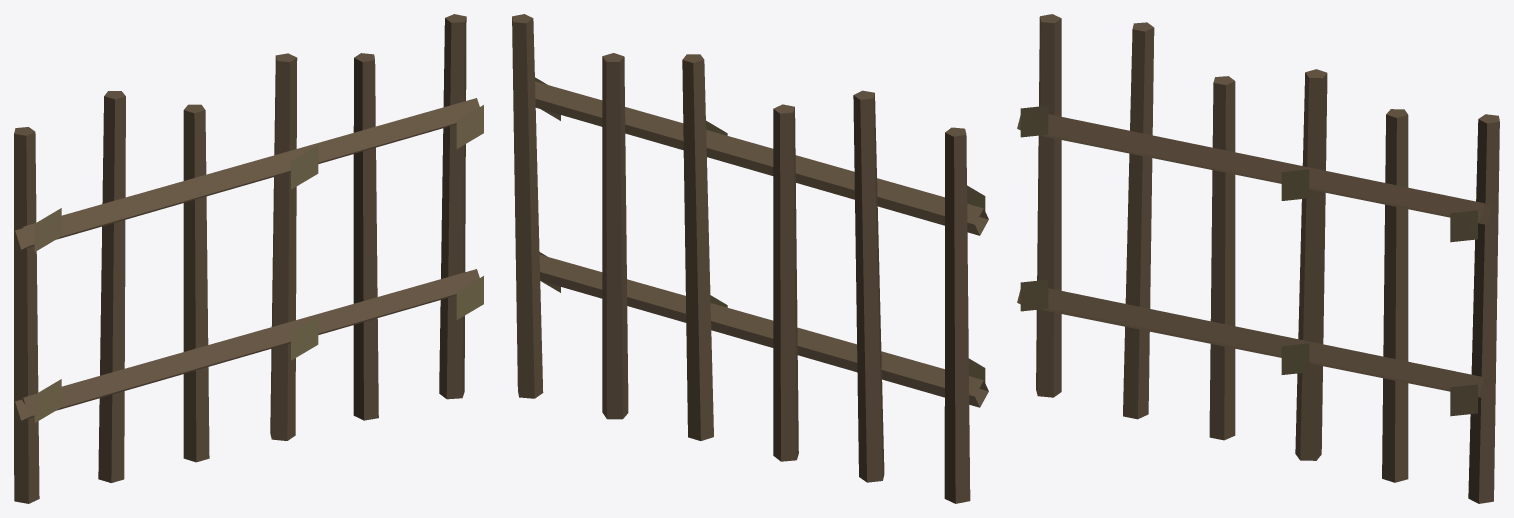
The model's file is fence_bamboo_2m.glb.
The picture shows the model from 3 angles, left to right: view 1: azimuth 30°, elevation 25°; view 2: azimuth 150°, elevation 25°; view 3: azimuth 330°, elevation 25°; orthographic projection.
Visible parts, largest first — view 1: Body_fence_bamboo_2m.001; view 2: Body_fence_bamboo_2m.001; view 3: Body_fence_bamboo_2m.001.
Part boxes in pixels (<box>): Body_fence_bamboo_2m.001: <box>14,14,483,503</box>; Body_fence_bamboo_2m.001: <box>512,14,988,503</box>; Body_fence_bamboo_2m.001: <box>1017,14,1499,503</box>.
Size of the model in its own units: 2.01 by 1.6 by 0.1938.
